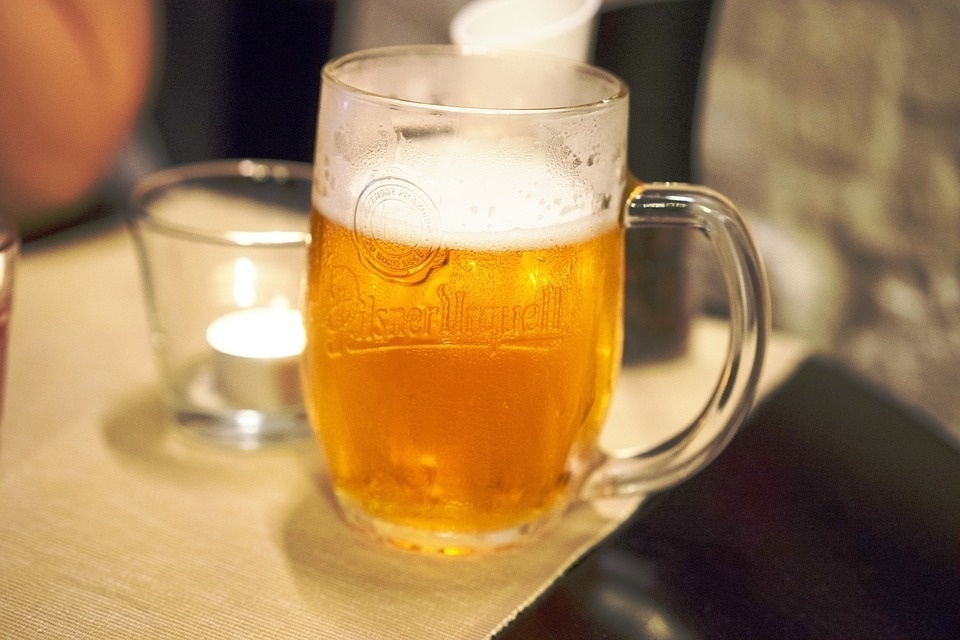whiskey: (310, 43, 635, 543)
